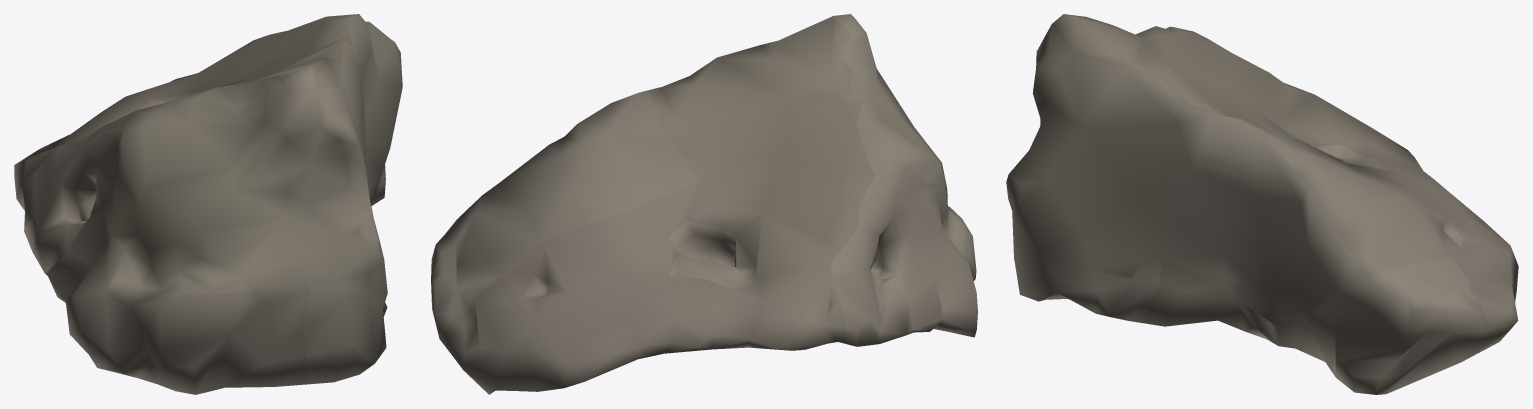
File: ph_moonrock_6.glb
The picture shows the model from 3 angles, left to right: view 1: azimuth 30°, elevation 25°; view 2: azimuth 150°, elevation 25°; view 3: azimuth 270°, elevation 25°; orthographic projection. The views are drawn at different scales.
Parts seen in each view (by area): view 1: ph_moonrock_6_lod1; view 2: ph_moonrock_6_lod1; view 3: ph_moonrock_6_lod1.
Boxes of the visible parts, x1,y1,x2,y2 form: ph_moonrock_6_lod1: [14, 14, 402, 394]; ph_moonrock_6_lod1: [431, 14, 977, 394]; ph_moonrock_6_lod1: [1006, 14, 1518, 394].
Size of the model in its own units: 0.0857 by 0.055 by 0.0918.
1 material, 1 textured.
